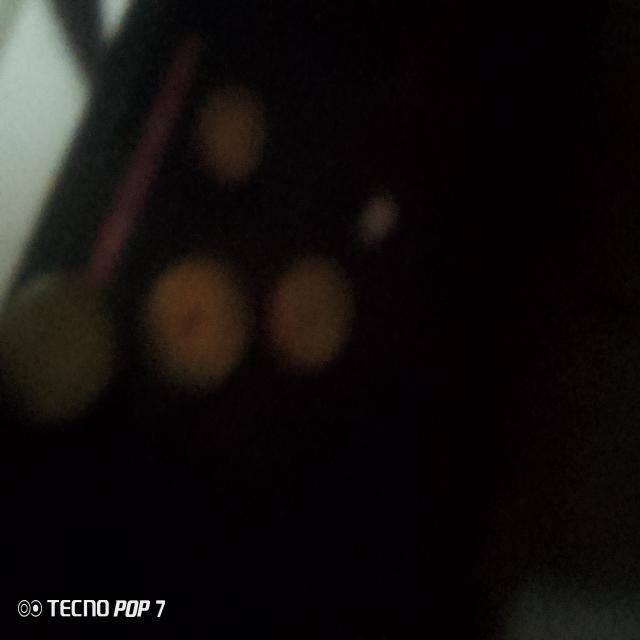agrume: (7, 264, 113, 425), (144, 256, 247, 390), (270, 262, 354, 379), (190, 95, 270, 182)
